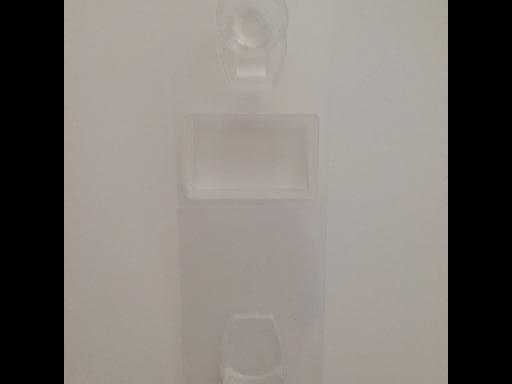plastic: (177, 111, 322, 382)
